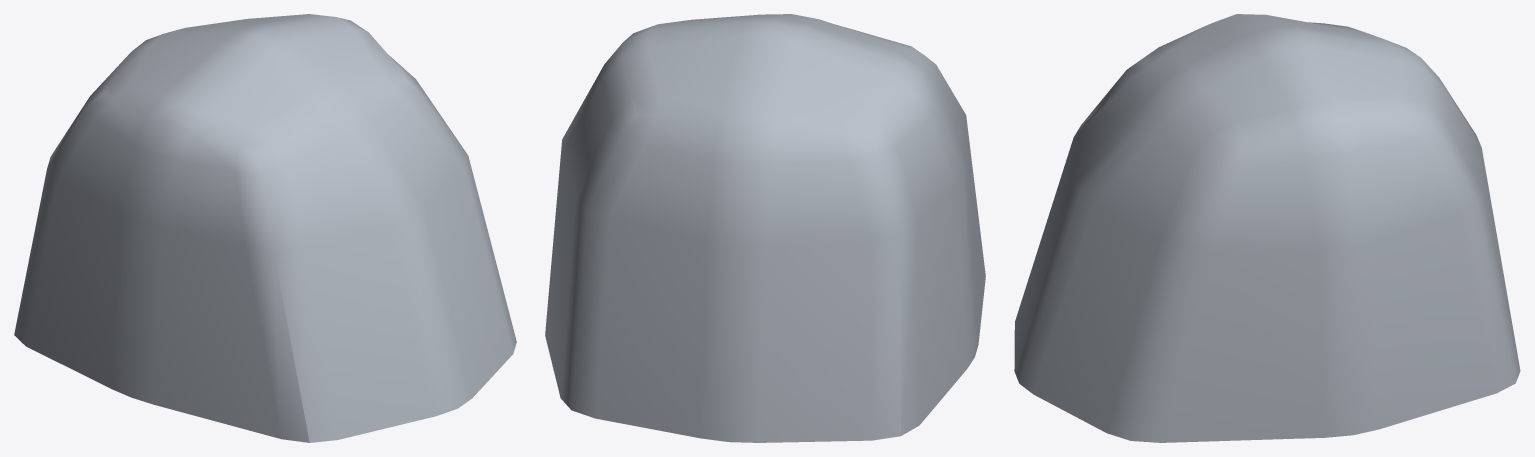
The model's file is rock_geo.fbx.
3 views of the same model, side by side, from view 1: azimuth 30°, elevation 25°; view 2: azimuth 150°, elevation 25°; view 3: azimuth 270°, elevation 25° (orthographic). The views are drawn at different scales.
Visible parts, largest first — view 1: rock; view 2: rock; view 3: rock.
Part boxes in pixels (x1=…): rock: x1=14, y1=14, x2=516, y2=442; rock: x1=545, y1=14, x2=985, y2=442; rock: x1=1014, y1=14, x2=1520, y2=442.
Size of the model in its own units: 1.45 by 1.1 by 1.62.
